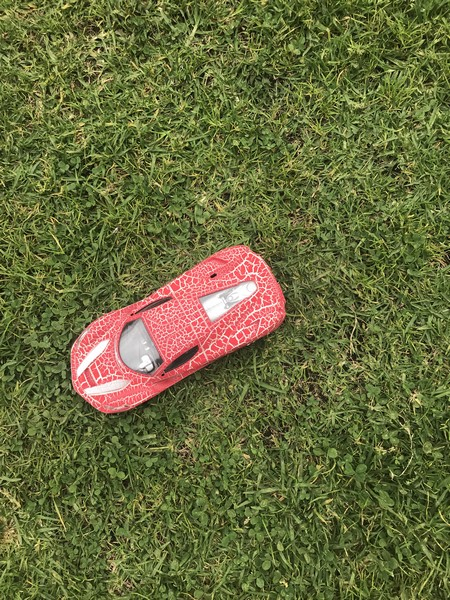RC: (66, 244, 289, 419)
